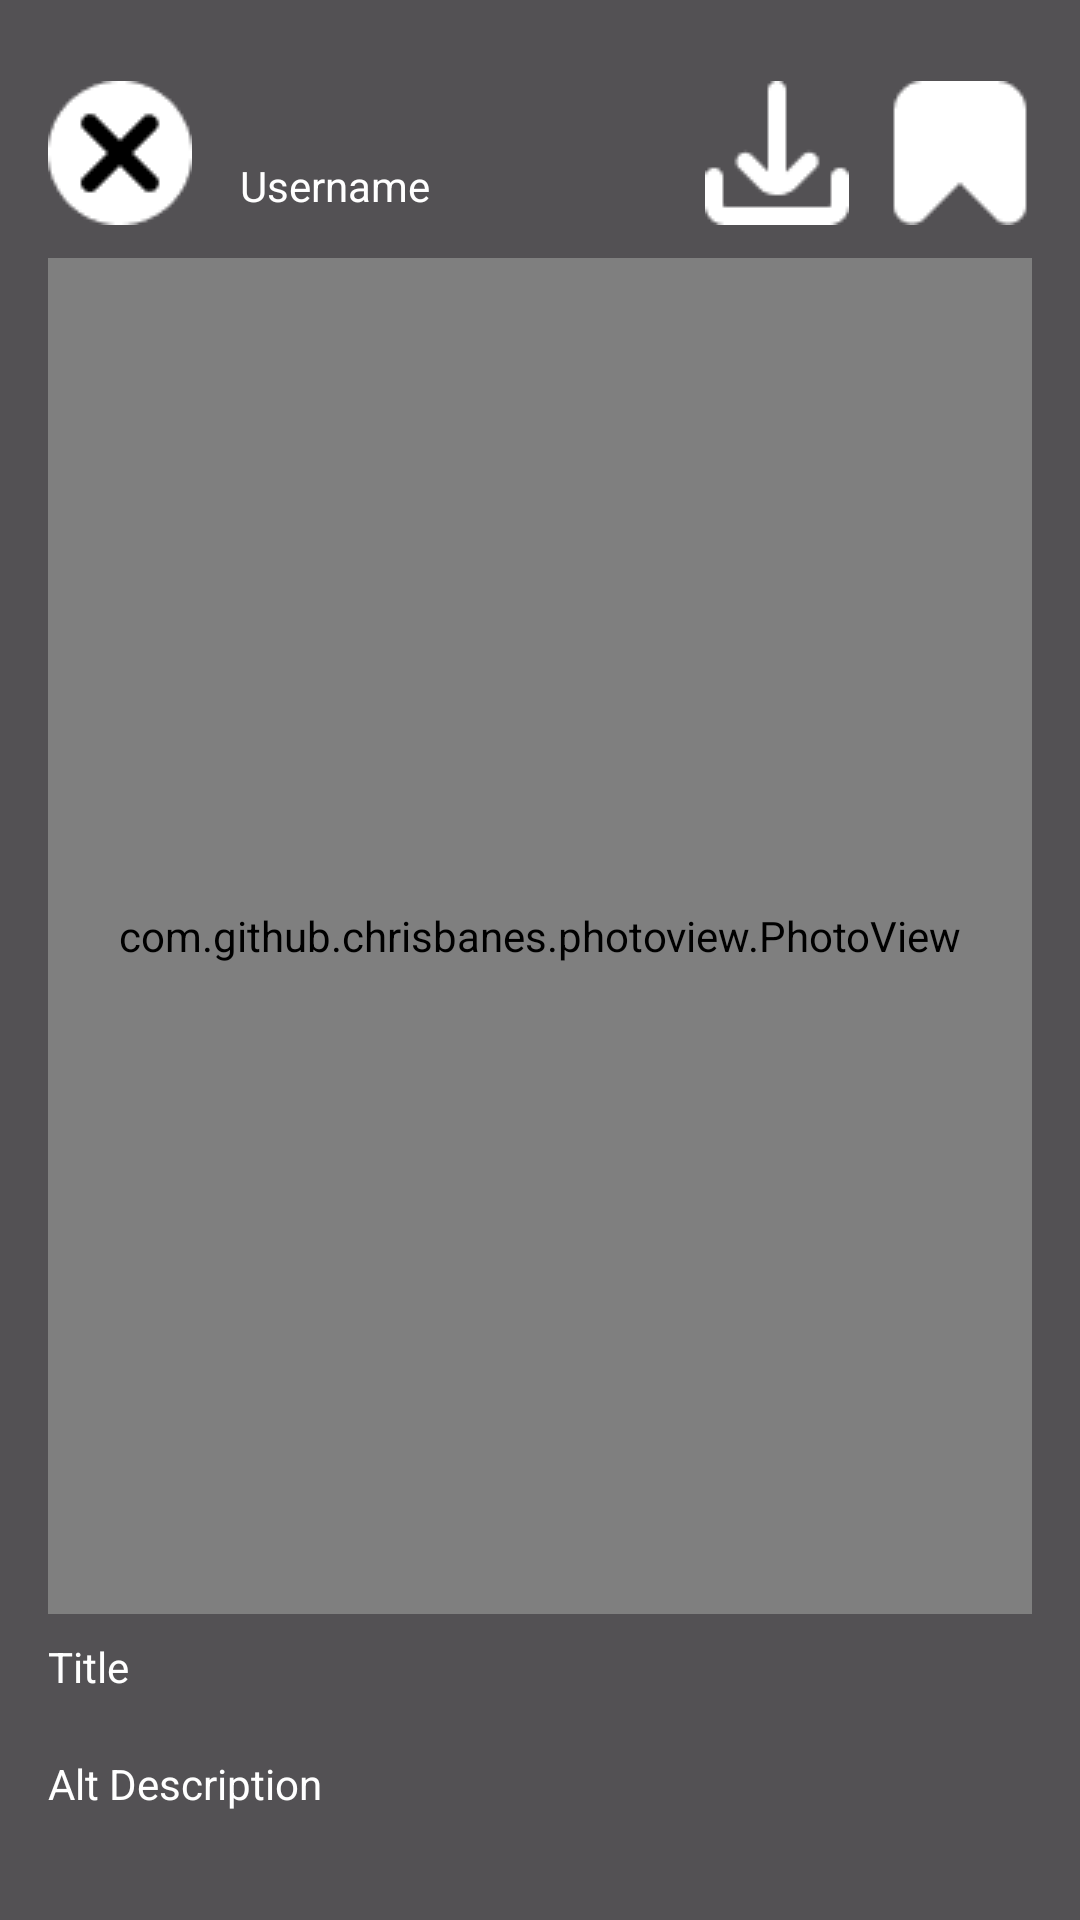

Named icons in this screenshot (1080*1920) and their bounding boxes, BBox(x1, y1, x2, y2):
Save: BBox(705, 81, 849, 225)
북마크로 저장: BBox(893, 81, 1027, 225)
창 닫기: BBox(48, 81, 192, 225)
